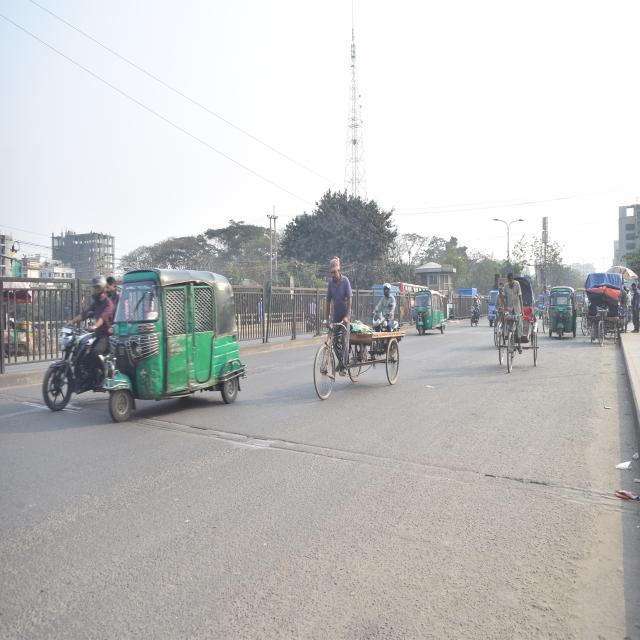bus: (574, 287, 586, 319)
motorbike: (28, 298, 114, 424), (371, 304, 401, 348), (465, 296, 481, 330)
pickup-van: (485, 286, 501, 328), (537, 293, 545, 320)
